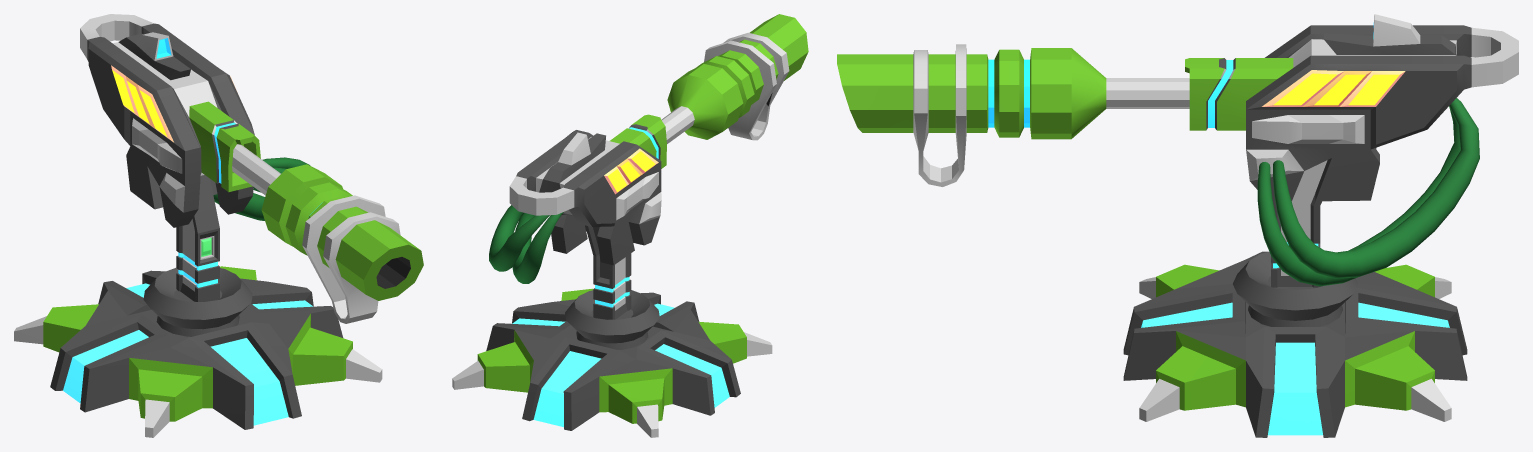
Rendered from Turret.glb.
3 views of the same model, side by side, from view 1: azimuth 30°, elevation 25°; view 2: azimuth 150°, elevation 25°; view 3: azimuth 270°, elevation 25° (orthographic). The views are drawn at different scales.
Parts seen in each view (by area): view 1: Cylinder, Cube, Cube.002, Cylinder.001, Cube.001, cable; view 2: Cylinder, Cube, Cube.002, cable, Cylinder.001, Cube.001; view 3: Cylinder, Cube, Cube.002, cable, Cylinder.001, Cube.001.
Part boxes in pixels (x1,y1,x2,y2): Cylinder: [14, 266, 382, 437]; Cube: [80, 14, 260, 227]; Cube.002: [232, 144, 423, 323]; Cylinder.001: [143, 268, 252, 336]; Cube.001: [176, 175, 219, 301]; cable: [213, 157, 310, 220]; Cylinder: [452, 288, 772, 437]; Cube: [509, 114, 666, 265]; Cube.002: [661, 14, 808, 143]; cable: [489, 205, 563, 283]; Cylinder.001: [565, 290, 659, 349]; Cube.001: [585, 225, 631, 319]; Cylinder: [1123, 251, 1467, 437]; Cube: [1185, 14, 1518, 206]; Cube.002: [837, 44, 1189, 186]; cable: [1257, 98, 1479, 286]; Cylinder.001: [1233, 251, 1357, 326]; Cube.001: [1271, 160, 1327, 287].
Size of the model in its own units: 2.65 by 2.99 by 5.26.
1 material, 1 textured.
